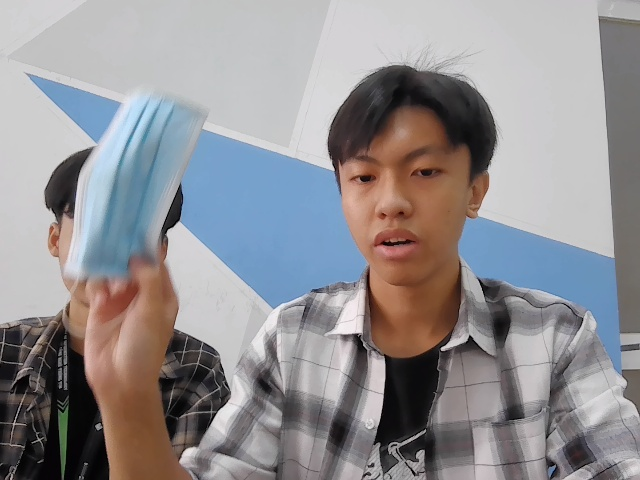human: (329, 53, 495, 287)
mask: (70, 82, 195, 285)
